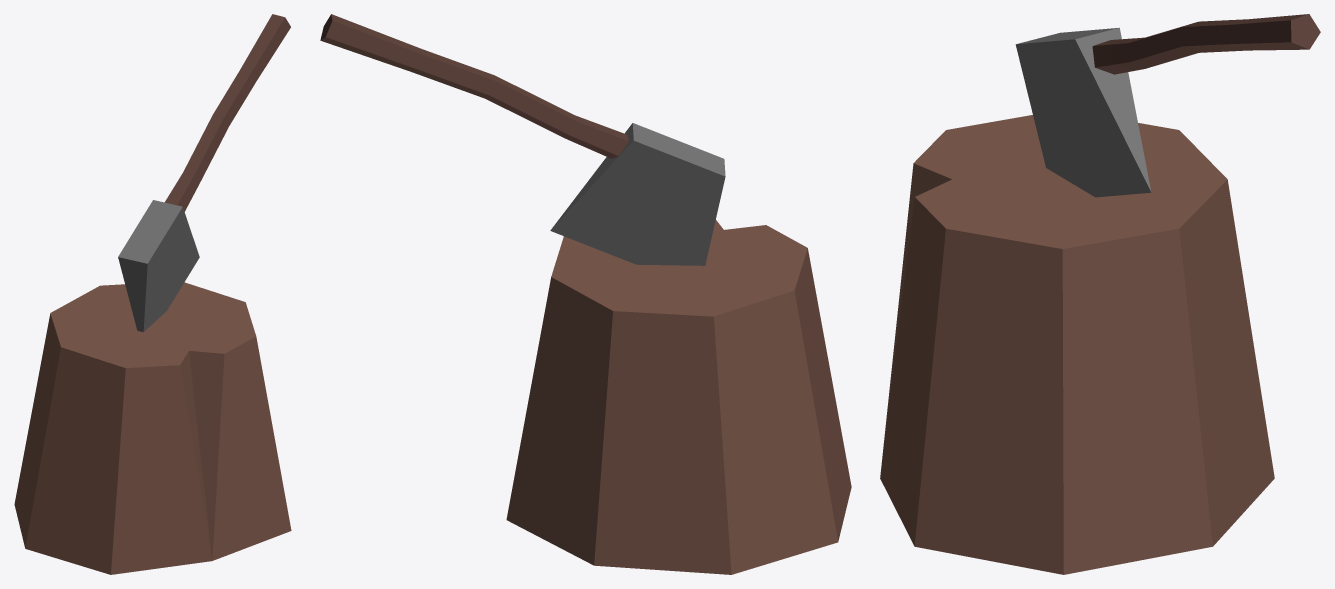
The model's file is ChopWoodchopblock.fbx.
The picture shows the model from 3 angles, left to right: view 1: azimuth 30°, elevation 25°; view 2: azimuth 150°, elevation 25°; view 3: azimuth 270°, elevation 25°; orthographic projection. The views are drawn at different scales.
Parts seen in each view (by area): view 1: Hackklotz; view 2: Hackklotz; view 3: Hackklotz.
Boxes of the visible parts, <box> form: Hackklotz: <box>14,14,291,574</box>; Hackklotz: <box>320,14,851,574</box>; Hackklotz: <box>880,14,1320,574</box>.
Size of the model in its own units: 0.7353 by 0.8219 by 0.5341.
Materials: 1 (1 with a texture image).
